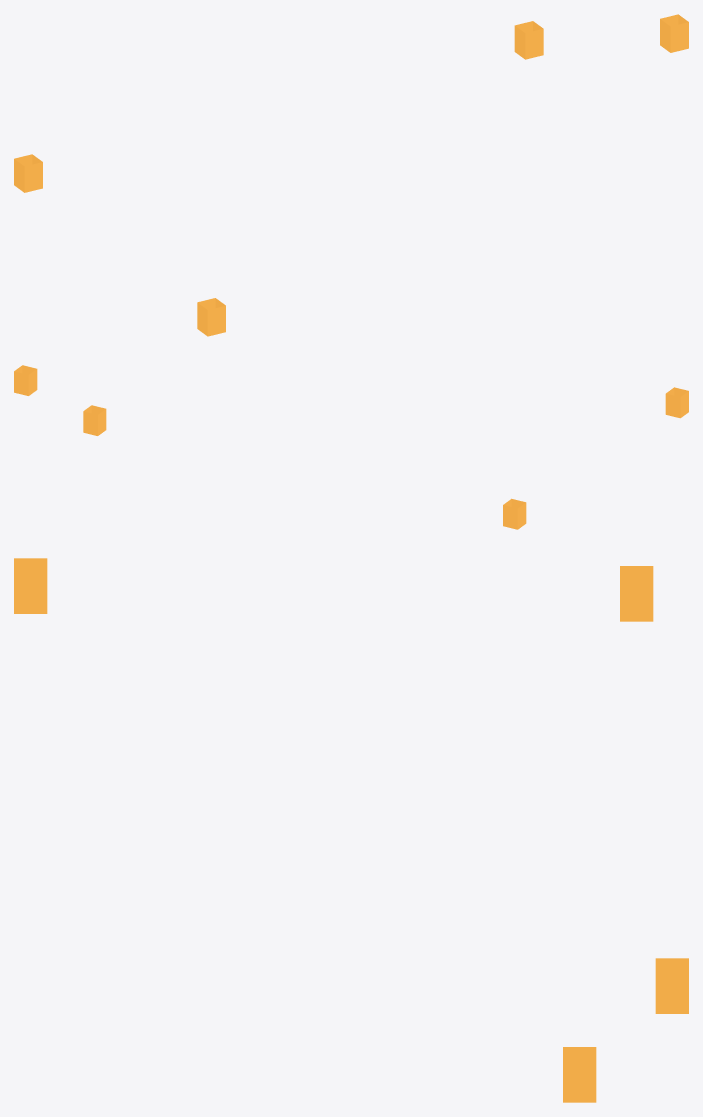
Rendered from lamp_light-v1.glb.
3 views of the same model, one above another, from view 1: azimuth 30°, elevation 25°; view 2: azimuth 150°, elevation 25°; view 3: azimuth 270°, elevation 25° (orthographic). The views are drawn at different scales.
Visible parts, largest first — view 1: lamp_light_1, lamp_light_1.001, lamp_light_1.003, lamp_light_1.002; view 2: lamp_light_3, lamp_light_3.001, lamp_light_3.002, lamp_light_3.003; view 3: lamp_light_4.001, lamp_light_4.002, lamp_light_4.003, lamp_light_4.
Part boxes in pixels (box(x1,y1,x2,y2)): lamp_light_1: box(207, 305, 225, 336); lamp_light_1.001: box(24, 162, 42, 192); lamp_light_1.003: box(525, 29, 543, 59); lamp_light_1.002: box(670, 22, 688, 52); lamp_light_3: box(665, 393, 680, 418); lamp_light_3.001: box(503, 505, 517, 529); lamp_light_3.002: box(14, 371, 28, 395); lamp_light_3.003: box(83, 411, 97, 435); lamp_light_4.001: box(620, 580, 653, 621); lamp_light_4.002: box(563, 1061, 596, 1102); lamp_light_4.003: box(655, 972, 688, 1013); lamp_light_4: box(14, 572, 47, 613).
Bounding box in the file's own units: 3.38 × 0.1305 × 1.92.
